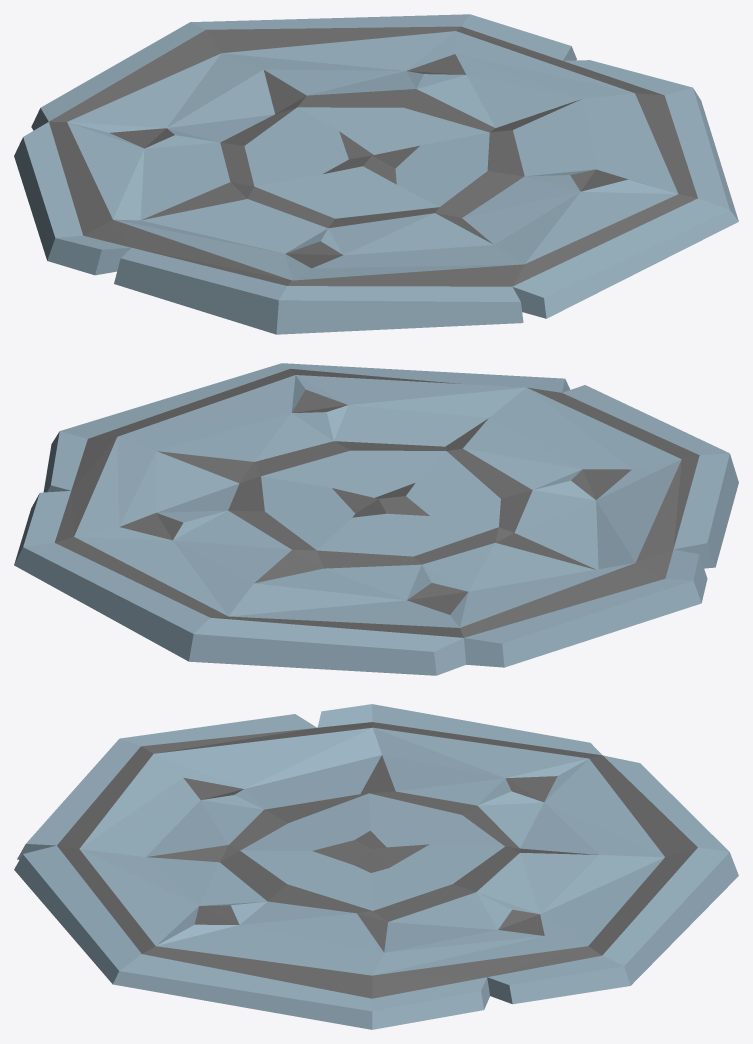
Rendered from CircleRug_Blue.fbx.
The picture shows the model from 3 angles, top to bottom: view 1: azimuth 30°, elevation 25°; view 2: azimuth 150°, elevation 25°; view 3: azimuth 270°, elevation 25°; orthographic projection. The views are drawn at different scales.
Parts seen in each view (by area): view 1: CircleRug_Blue; view 2: CircleRug_Blue; view 3: CircleRug_Blue.
Part boxes in pixels (left/top/right/bottom): CircleRug_Blue: left=14, top=14, right=738, bottom=334; CircleRug_Blue: left=14, top=363, right=738, bottom=675; CircleRug_Blue: left=14, top=704, right=738, bottom=1029.
Bounding box in the file's own units: 9.17 × 0.4681 × 9.07.
